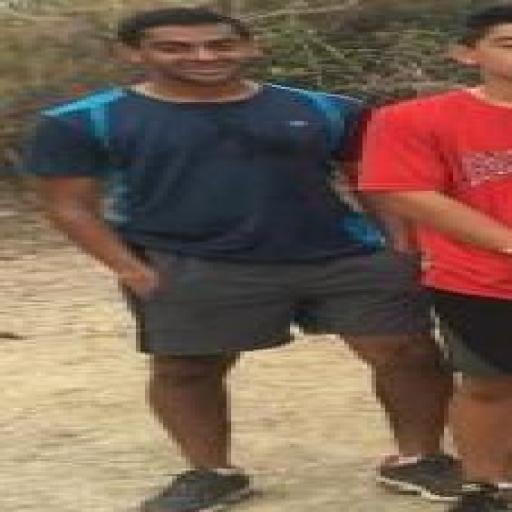person: (28, 8, 457, 511), (363, 4, 511, 511)
